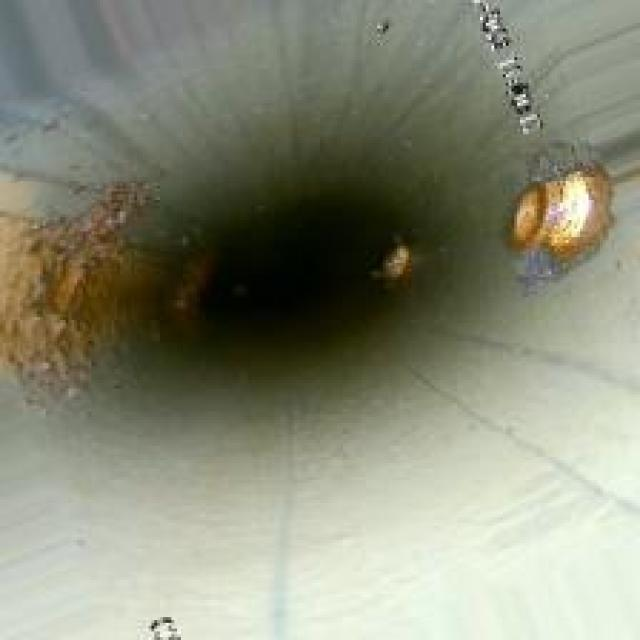ferrule: (500, 152, 606, 274), (363, 234, 414, 277)
